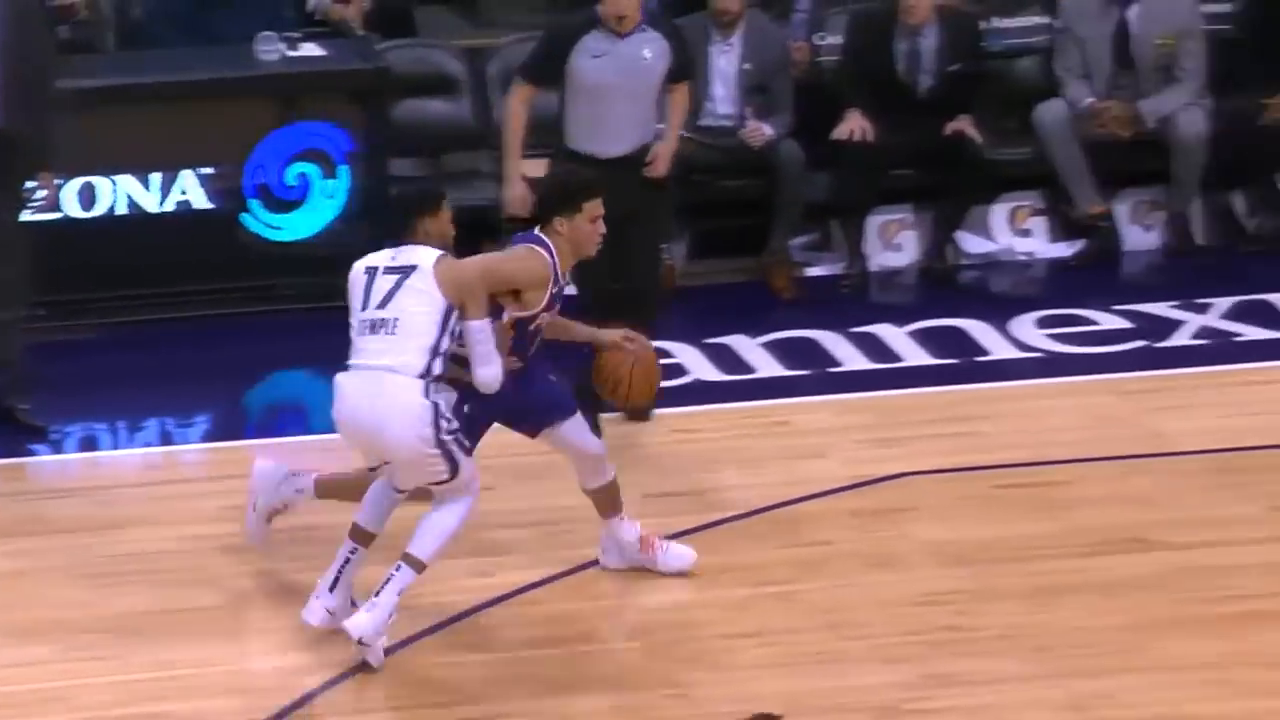ball: (595, 341, 662, 410)
